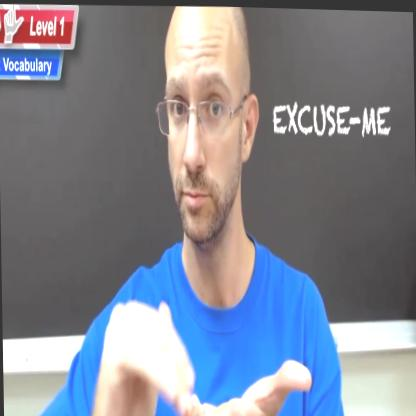ExcuseMe: (83, 280, 317, 416)
